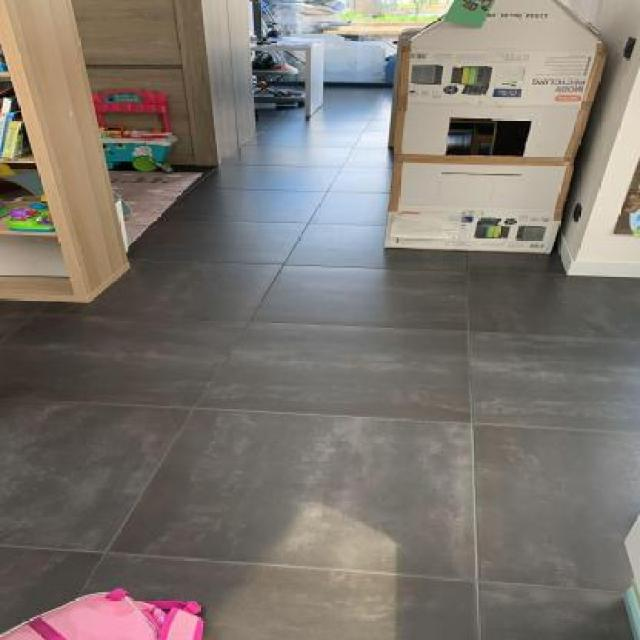Floor: (0, 86, 639, 640), (108, 163, 142, 172), (271, 85, 305, 92), (266, 86, 272, 88)
